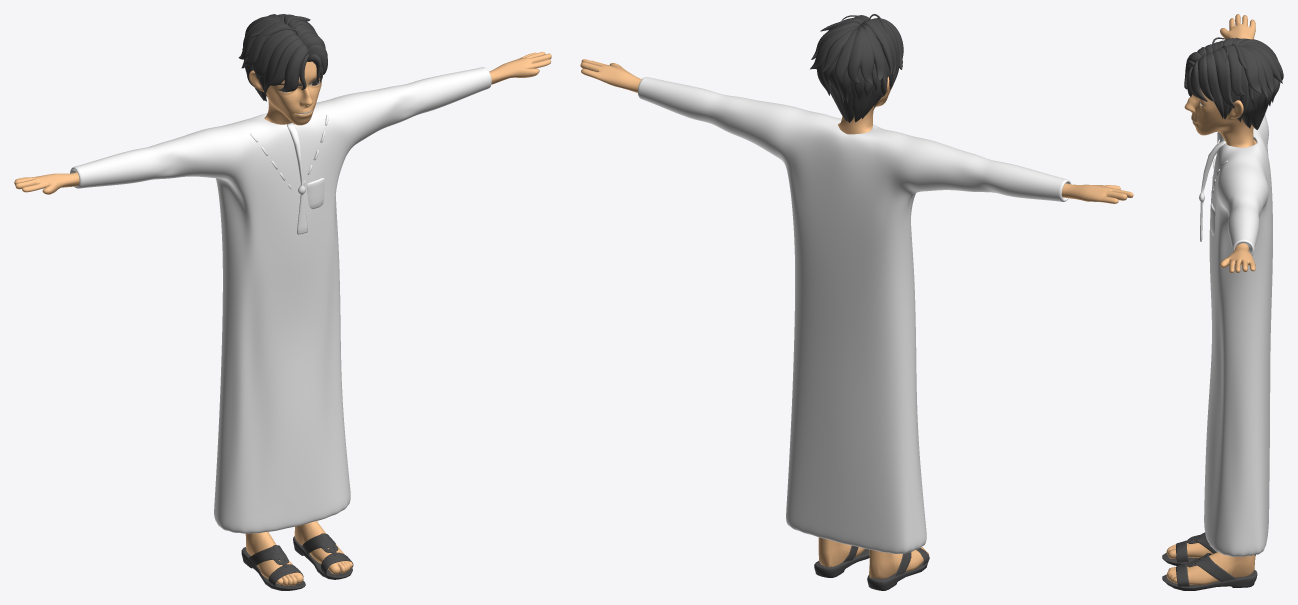
Rendered from older MC.fbx.
3 renders of one model, left to right at view 1: azimuth 30°, elevation 25°; view 2: azimuth 150°, elevation 25°; view 3: azimuth 270°, elevation 25°, orthographic. The views are drawn at different scales.
Visible parts, largest first — view 1: KANDORA.001, BODY, Hair, Sandals., CLOTH STRING; view 2: KANDORA.001, Hair, BODY, Sandals.; view 3: KANDORA.001, Hair, BODY, Sandals., CLOTH STRING.
Boxes of the visible parts, x1=… form: KANDORA.001: x1=70, y1=67, x2=491, y2=533; BODY: x1=14, y1=51, x2=551, y2=585; Hair: x1=238, y1=14, x2=327, y2=101; Sandals.: x1=241, y1=533, x2=353, y2=590; CLOTH STRING: x1=287, y1=123, x2=307, y2=234; KANDORA.001: x1=637, y1=77, x2=1071, y2=553; Hair: x1=810, y1=14, x2=903, y2=122; BODY: x1=580, y1=59, x2=1133, y2=578; Sandals.: x1=814, y1=545, x2=929, y2=590; KANDORA.001: x1=1204, y1=114, x2=1272, y2=556; Hair: x1=1184, y1=37, x2=1283, y2=129; BODY: x1=1166, y1=14, x2=1256, y2=584; Sandals.: x1=1162, y1=532, x2=1257, y2=590; CLOTH STRING: x1=1199, y1=140, x2=1225, y2=241.
Size of the model in its own units: 1346 by 1300 by 269.
